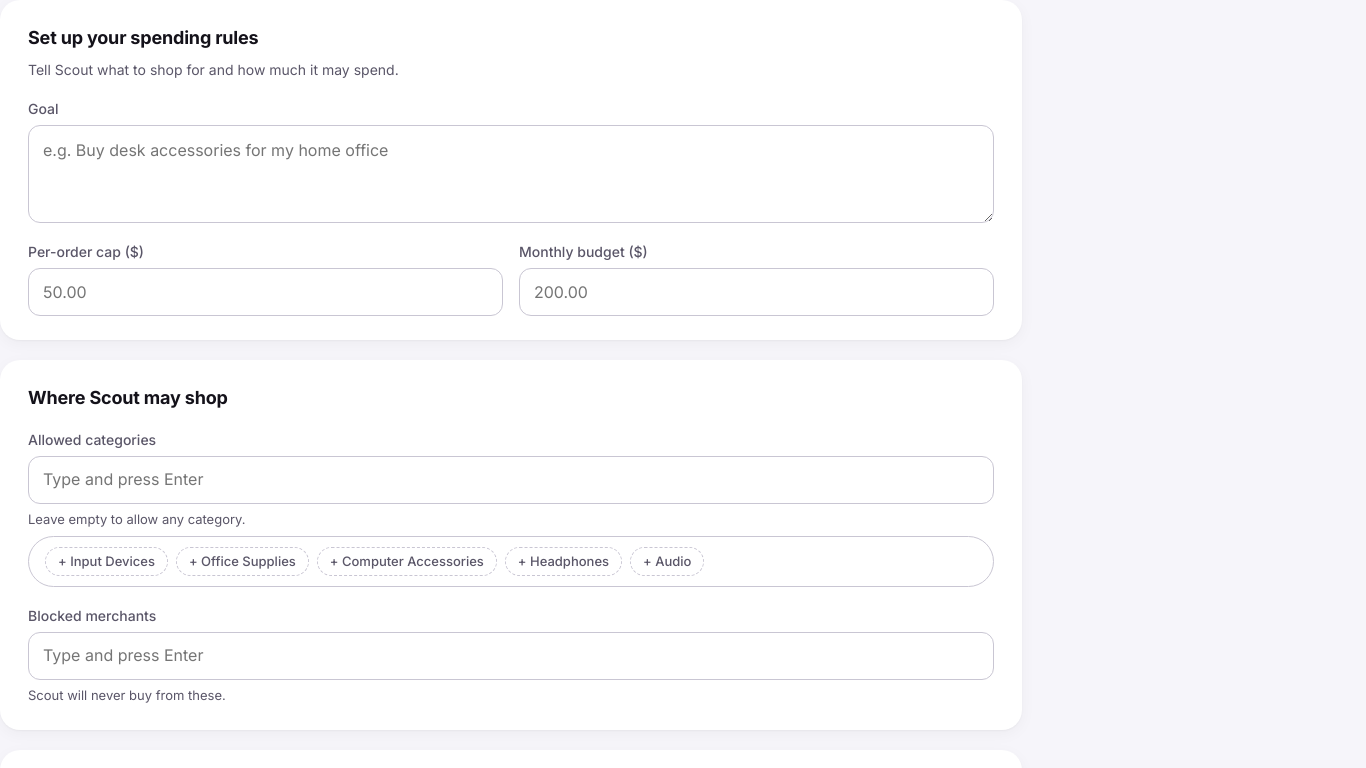
Scenario: Rules page › chips add on Enter and remove with the x button; slider label is live
The width and height of the screenshot is (1366, 768).
Type "shady.com" into the field labelled "Blocked merchants". click: (511, 655)
box: x1=39 y1=639 x2=983 y2=671
Then press Enter
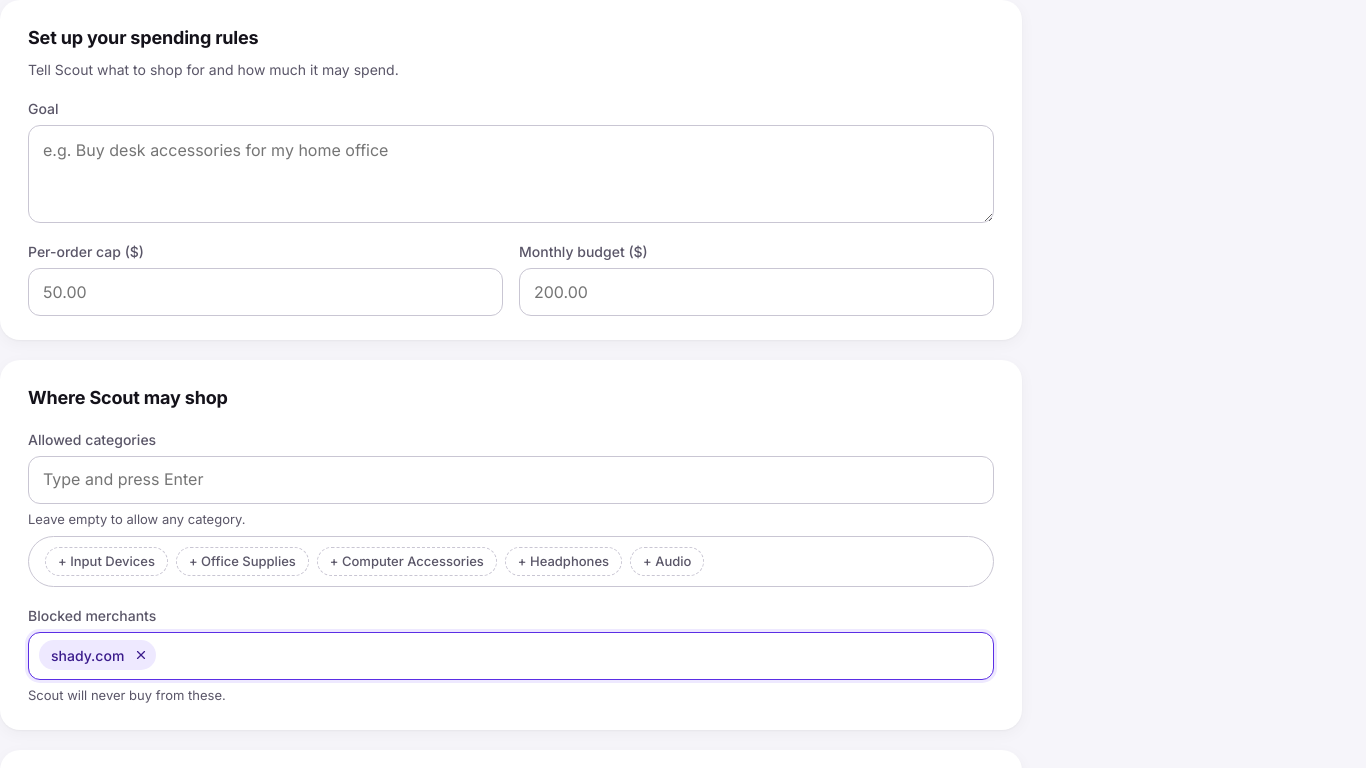
Result: the text "shady.com" is shown at x1=39 y1=640 x2=156 y2=670
Click the button named "Remove shady.com". click: (139, 655)
box: x1=128 y1=644 x2=150 y2=666
(page scrolled)
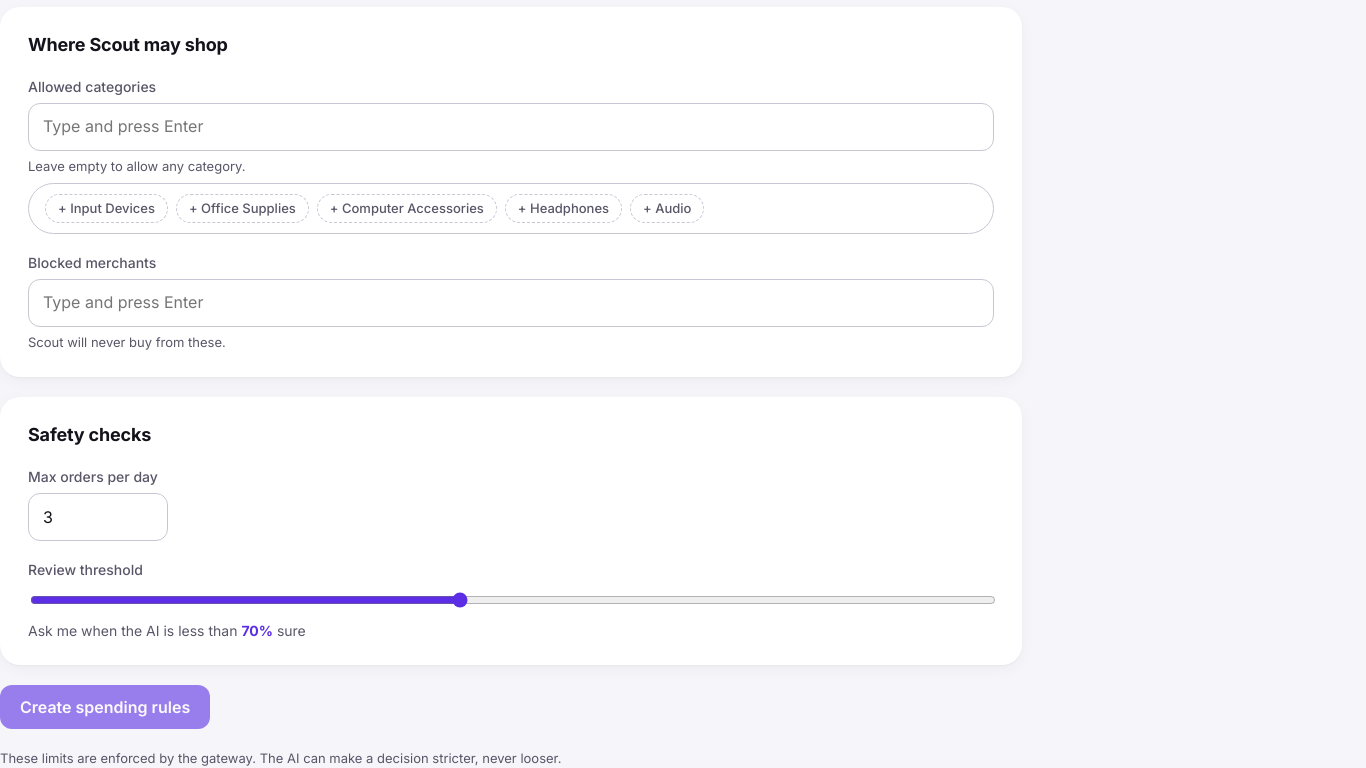
Expected: the text "Ask me when the AI is less than 70% sure" is shown, x1=28 y1=622 x2=306 y2=638
Result: the text "shady.com" is gone
